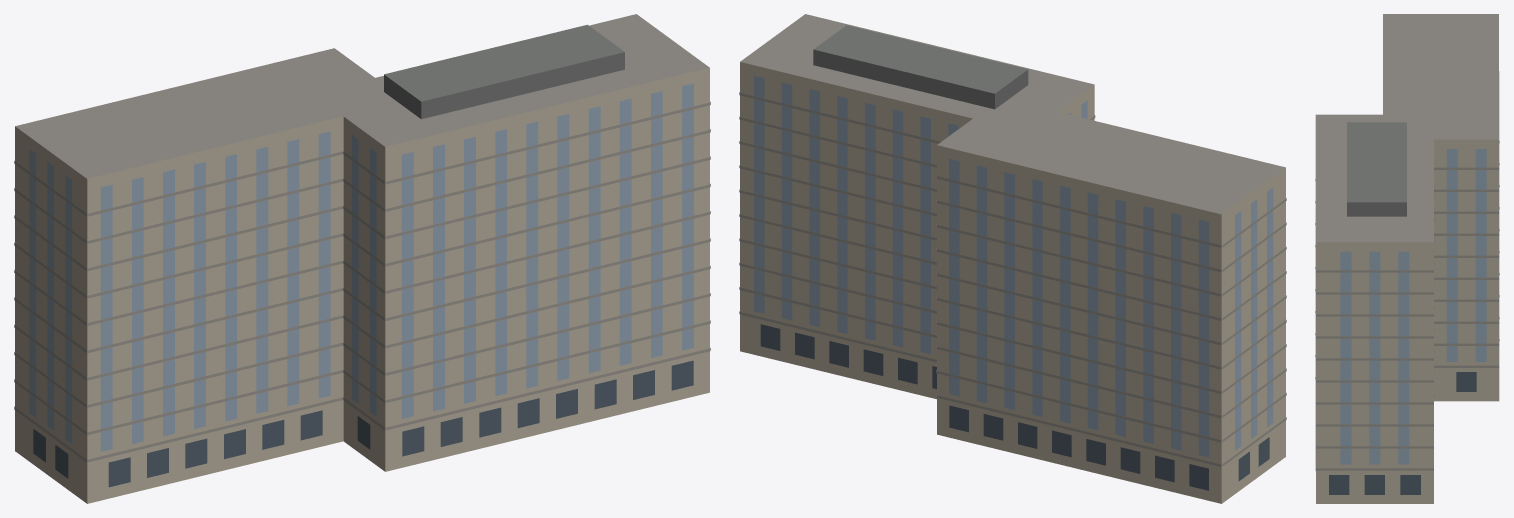
File: cumberland-towers.glb
3 views of the same model, side by side, from view 1: azimuth 30°, elevation 25°; view 2: azimuth 150°, elevation 25°; view 3: azimuth 270°, elevation 25° (orthographic). The views are drawn at different scales.
Parts seen in each view (by area): view 1: cumberland_towers; view 2: cumberland_towers; view 3: cumberland_towers.
Boxes of the visible parts, bbox=[...] form: cumberland_towers: bbox=[14, 14, 710, 503]; cumberland_towers: bbox=[739, 14, 1286, 503]; cumberland_towers: bbox=[1315, 14, 1499, 503].
Bounding box in the file's own units: 63.58 × 35.74 × 21.69.
